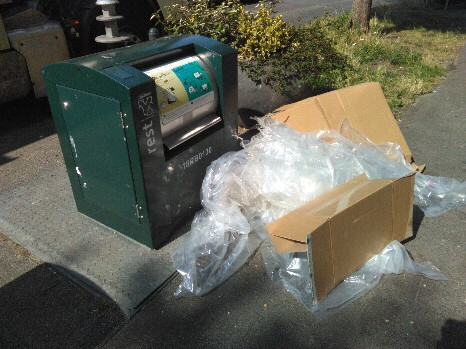Container: (54, 39, 232, 239)
Papier: (283, 187, 438, 266), (283, 87, 415, 138)
Plastic: (217, 135, 421, 194), (195, 177, 269, 290)
